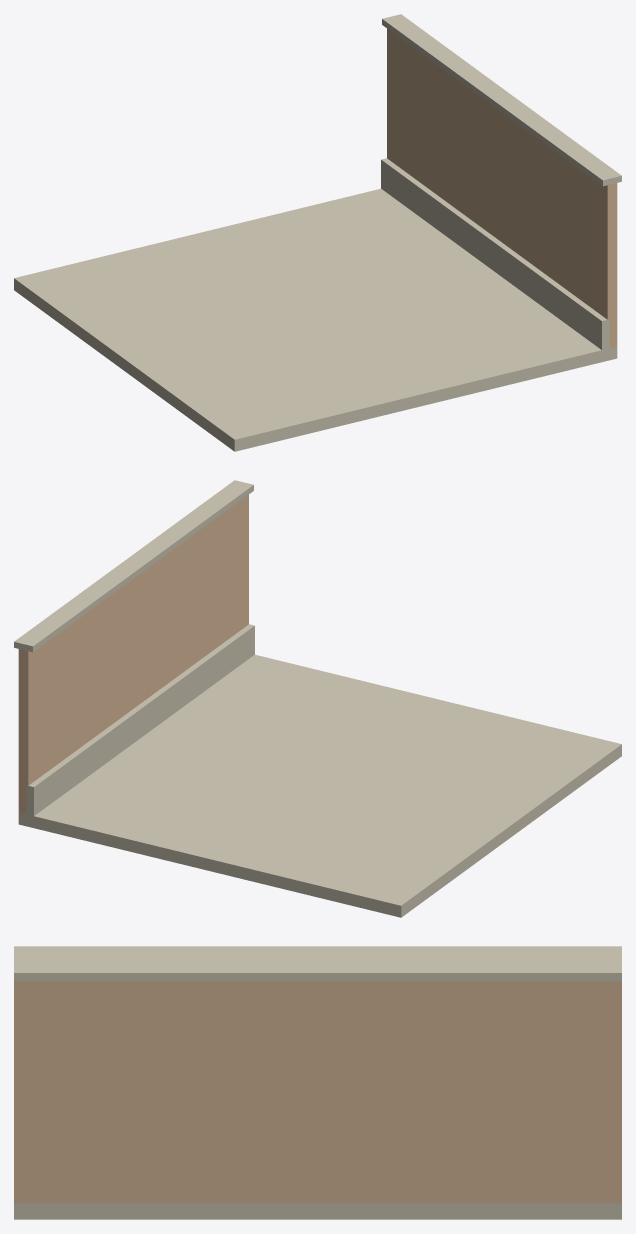
File: district-2-1-2.glb
The picture shows the model from 3 angles, top to bottom: view 1: azimuth 30°, elevation 25°; view 2: azimuth 150°, elevation 25°; view 3: azimuth 270°, elevation 25°; orthographic projection. The views are drawn at different scales.
Visible parts, largest first — view 1: stone.023, plaster.020; view 2: stone.023, plaster.020; view 3: plaster.020, stone.023.
Part boxes in pixels (x1,y1,x2,y2): stone.023: (14,14,621,451); plaster.020: (387,28,617,347); stone.023: (14,480,621,917); plaster.020: (18,494,248,813); plaster.020: (14,981,621,1203); stone.023: (14,946,621,1219).
Size of the model in its own units: 8.1 by 3.63 by 8.
